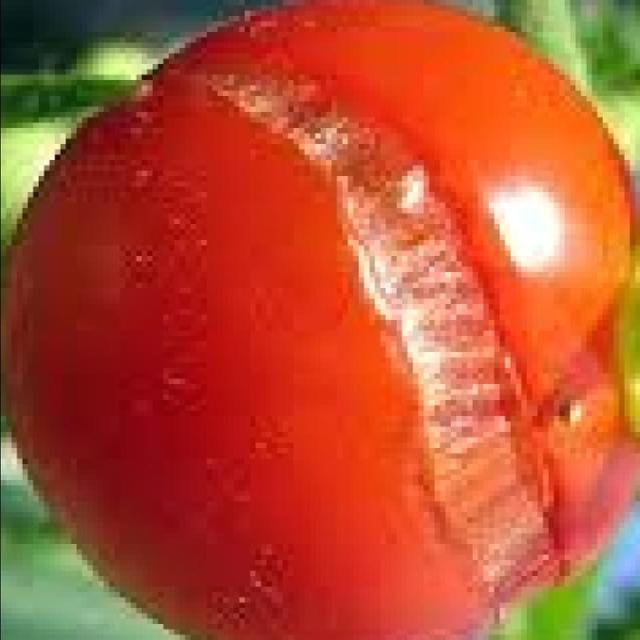Cracking Fruit: (125, 16, 385, 417)
